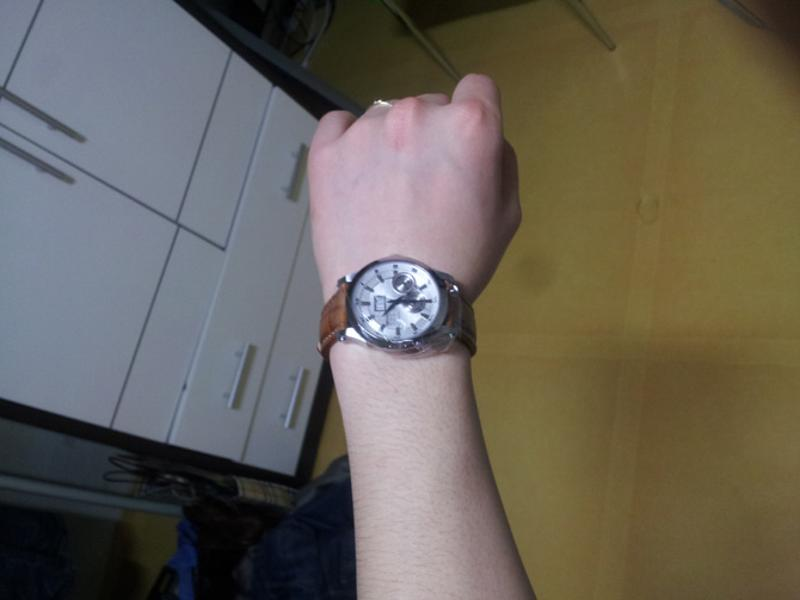watch: (306, 256, 482, 365)
